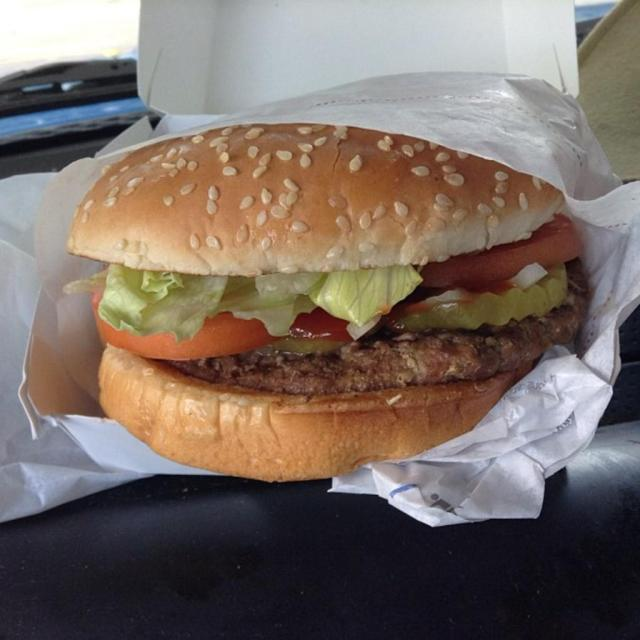Hamburger: (62, 123, 586, 485)
